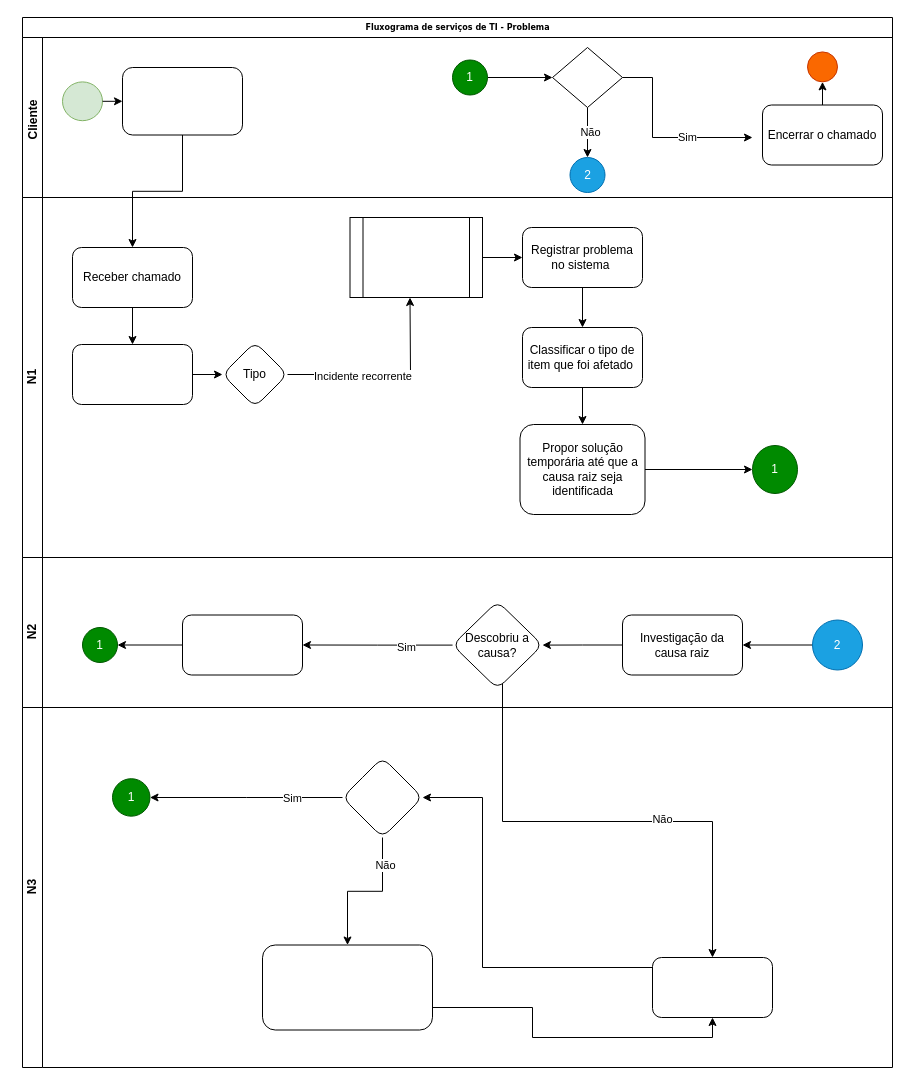
The diagram is 910 pixels wide and 1085 high, and some of its shapes have lost their labels. The shapes that lost their labels are listed below. From the top down, each one's centre as x and y in pixels, then its label:
At (x=587, y=77): "Resolveu?".
At (x=822, y=66): "Fim".
At (x=82, y=101): "Inicio".
At (x=182, y=100): "Entrar em contato com a Central de Serviços".
At (x=415, y=257): "Fluxo Problema".
At (x=132, y=374): "Avaliar e detectar".
At (x=242, y=644): "Propor solução".
At (x=382, y=797): "Consegue Resolver?".
At (x=347, y=987): "Utilizar Bob IA para pesquisar soluções viáveis para o problema".
At (x=712, y=987): "Realizar testes/ troubleshooting".
